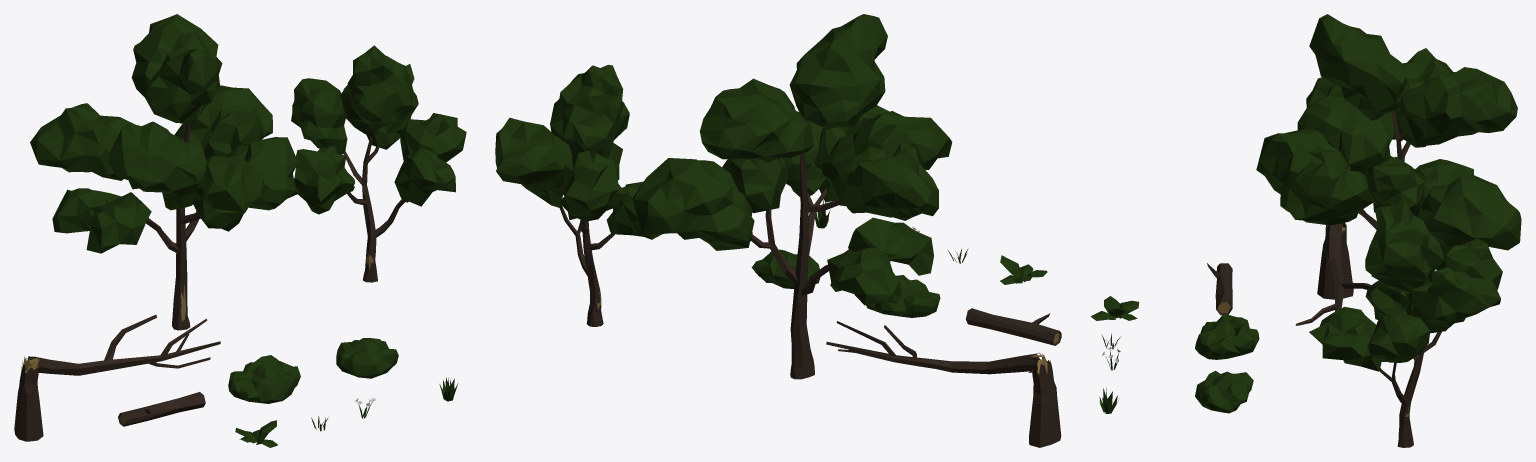
The model's file is Vegetation.fbx.
3 renders of one model, left to right at view 1: azimuth 30°, elevation 25°; view 2: azimuth 150°, elevation 25°; view 3: azimuth 270°, elevation 25°, orthographic. The views are drawn at different scales.
Visible parts, largest first — view 1: Tree_1_2_LOD0, Tree_1_1_LOD0, FallenTree_1_2_2, Bush_1_1_LOD0, Bush_1_2_LOD0, FallenTree_1_2_LOD0, FallenTree_1_1_LOD0, Plant_1_1; view 2: Tree_1_2_LOD0, Tree_1_1_LOD0, FallenTree_1_2_2, FallenTree_1_2_LOD0, Bush_1_1_LOD0, FallenTree_1_1_LOD0, Bush_1_2_LOD0, Plant_1_1; view 3: Tree_1_2_LOD0, Tree_1_1_LOD0, Bush_1_1_LOD0, Bush_1_2_LOD0, FallenTree_1_2_2, FallenTree_1_2_LOD0, FallenTree_1_1_LOD0, Plant_1_1.
Boxes of the visible parts, x1,y1,x2,y2 form: Tree_1_2_LOD0: (30,14,299,330); Tree_1_1_LOD0: (291,45,466,282); FallenTree_1_2_2: (27,314,220,375); Bush_1_1_LOD0: (228,355,300,403); Bush_1_2_LOD0: (336,338,398,378); FallenTree_1_2_LOD0: (14,356,43,441); FallenTree_1_1_LOD0: (118,392,205,426); Plant_1_1: (235,420,277,447); Tree_1_2_LOD0: (632,14,952,379); Tree_1_1_LOD0: (495,64,676,326); FallenTree_1_2_2: (826,321,1043,374); FallenTree_1_2_LOD0: (1028,352,1061,447); Bush_1_1_LOD0: (866,275,940,317); FallenTree_1_1_LOD0: (966,308,1061,345); Bush_1_2_LOD0: (751,249,820,288); Plant_1_1: (1000,255,1047,284); Tree_1_2_LOD0: (1256,14,1521,252); Tree_1_1_LOD0: (1309,201,1502,447); Bush_1_1_LOD0: (1195,313,1259,359); Bush_1_2_LOD0: (1195,370,1253,413); FallenTree_1_2_2: (1295,223,1371,325); FallenTree_1_2_LOD0: (1317,222,1353,299); FallenTree_1_1_LOD0: (1207,263,1232,315); Plant_1_1: (1091,296,1139,320).
Size of what is drawn, in the model's own units: 780 by 540 by 586.
